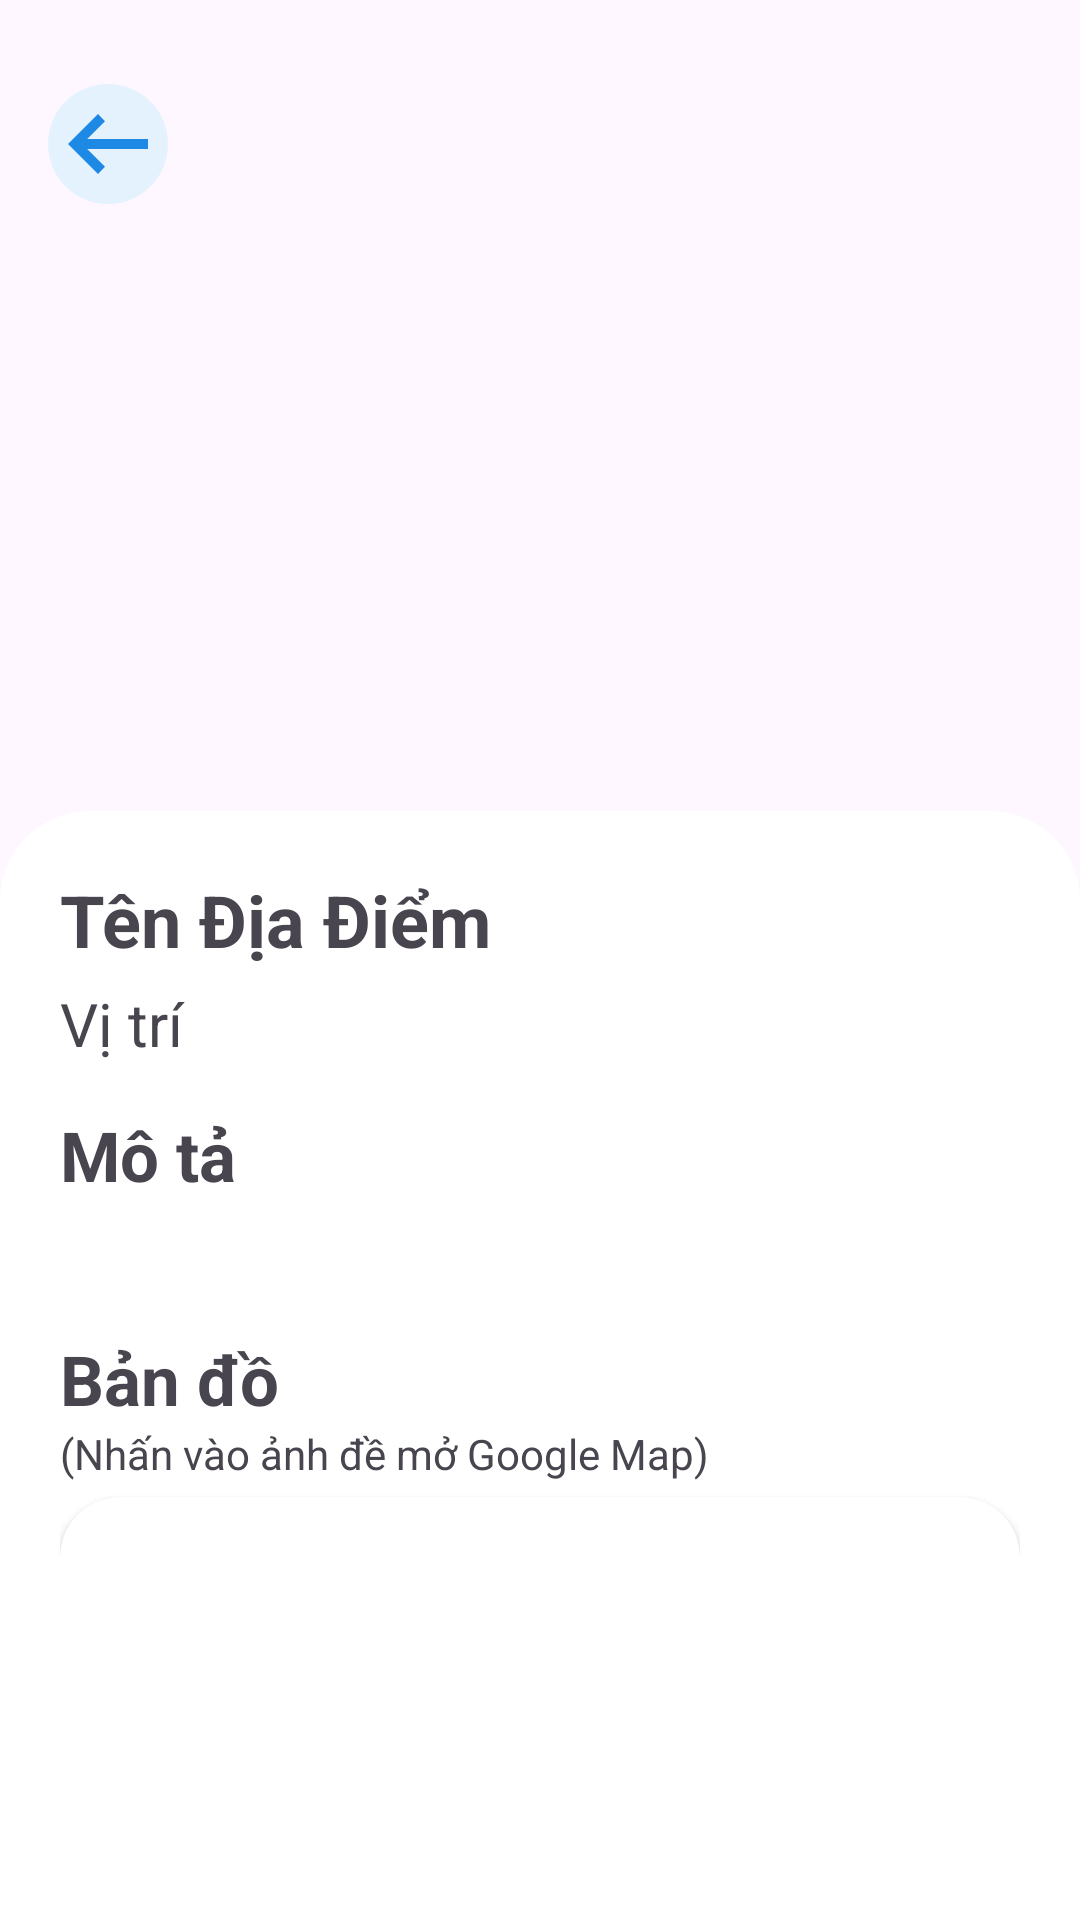

Screen size 1080x1920. Icon name, then its center in pixels as point (x, y):
back: point (108, 144)
